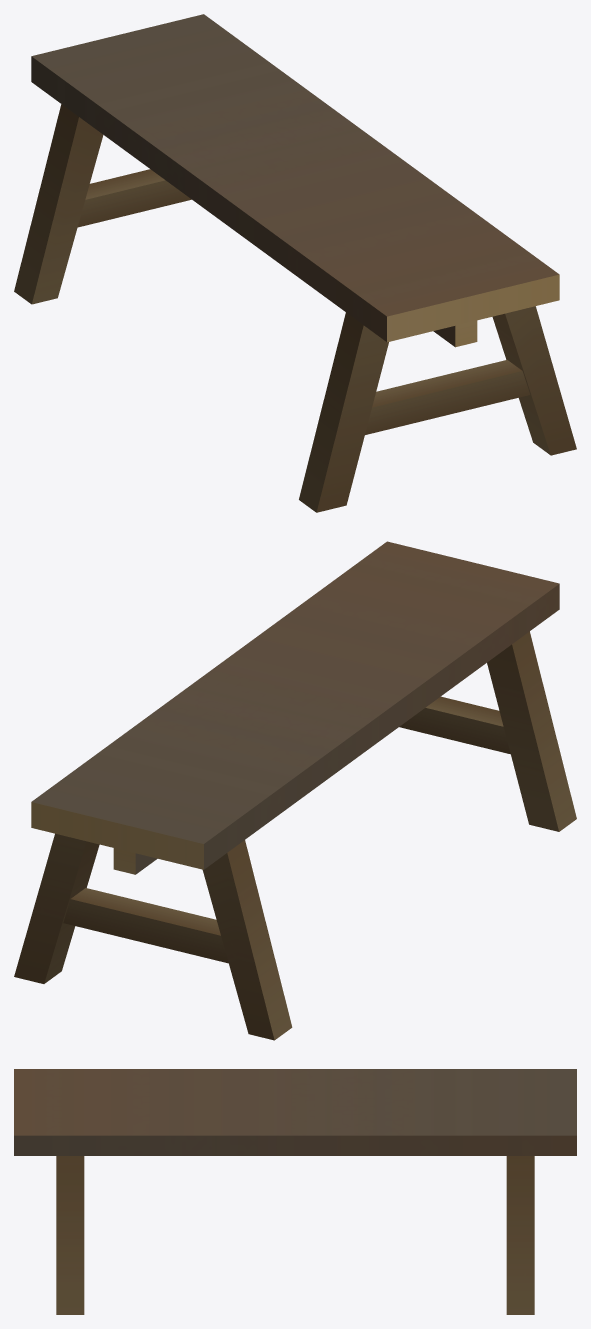
File: Bench_LOD1.fbx
The picture shows the model from 3 angles, top to bottom: view 1: azimuth 30°, elevation 25°; view 2: azimuth 150°, elevation 25°; view 3: azimuth 270°, elevation 25°; orthographic projection. The views are drawn at different scales.
Visible parts, largest first — view 1: polySurface9714; view 2: polySurface9714; view 3: polySurface9714.
Part boxes in pixels (box(x1,y1,x2,y2)): polySurface9714: box(14, 14, 576, 512); polySurface9714: box(14, 541, 576, 1040); polySurface9714: box(14, 1069, 576, 1314).
Size of the model in its own units: 106 by 79.5 by 250.
